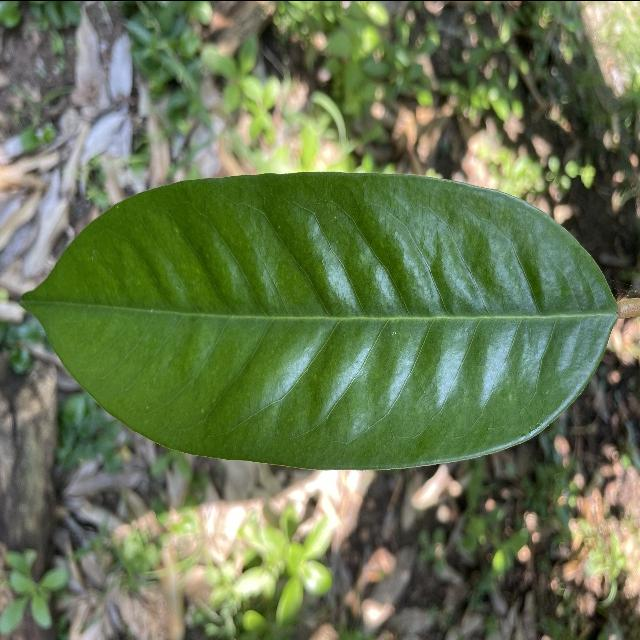No Disease: (13, 155, 631, 479)
